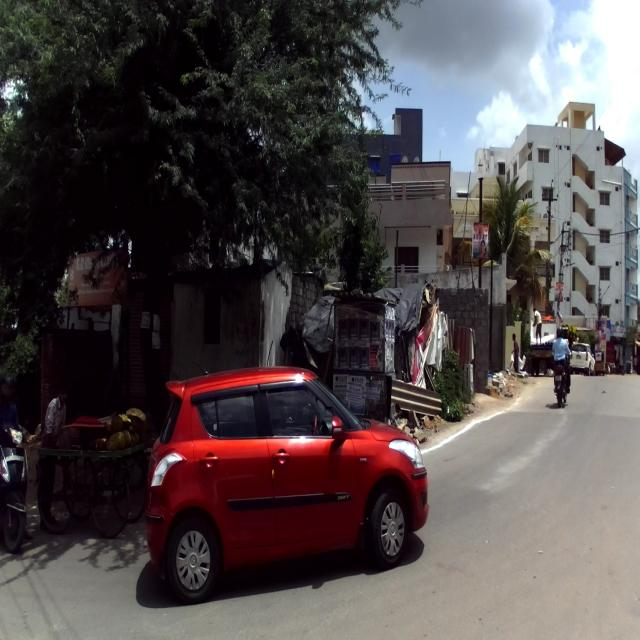car: (147, 357, 430, 604)
scooter: (0, 412, 33, 552)
